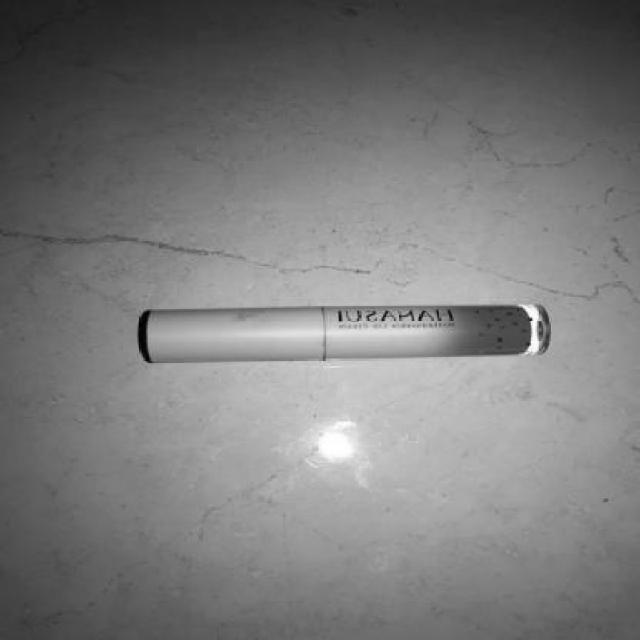lipstick: (71, 254, 583, 401)
